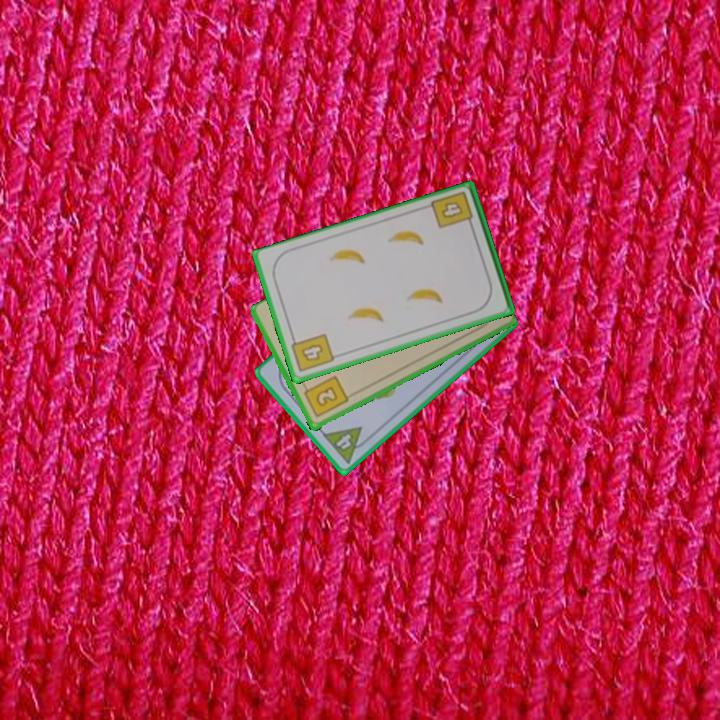2b: (300, 372, 351, 421)
4b: (288, 330, 337, 375), (428, 188, 476, 232)
4p: (319, 423, 374, 467)
